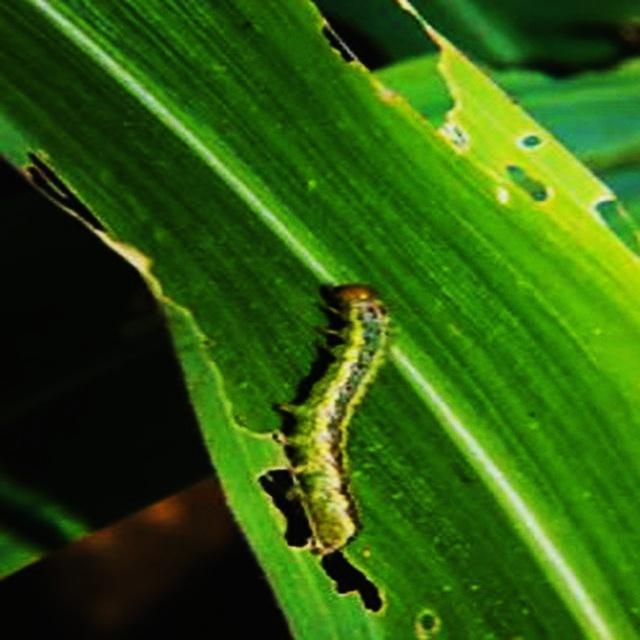worm: (272, 266, 400, 574)
